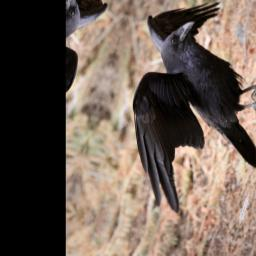Crow: (92, 0, 256, 231)
